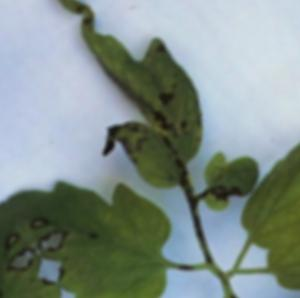Tomato leaf bacterial spot: (38, 0, 232, 212), (4, 126, 203, 298)
